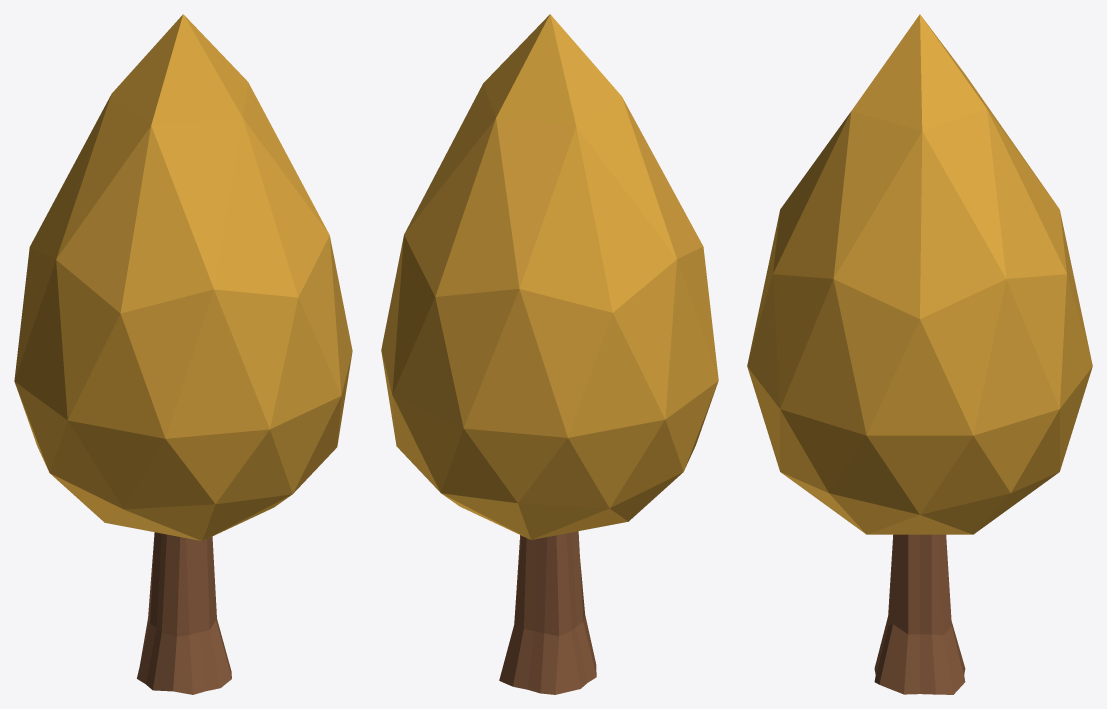
File: Tree_1.fbx
3 renders of one model, left to right at view 1: azimuth 30°, elevation 25°; view 2: azimuth 150°, elevation 25°; view 3: azimuth 270°, elevation 25°, orthographic.
Visible parts, largest first — view 1: Tree_1; view 2: Tree_1; view 3: Tree_1.
Boxes of the visible parts, x1,y1,x2,y2 form: Tree_1: (14,14,352,694); Tree_1: (381,14,718,694); Tree_1: (747,14,1092,694).
Size of the model in its own units: 140 by 312 by 147.
